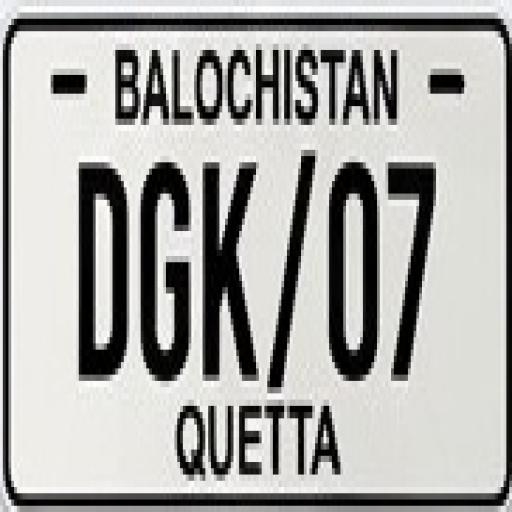0: (325, 158, 379, 398)
7: (386, 162, 440, 398)
D: (70, 146, 132, 418)
G: (136, 169, 192, 395)
K: (195, 151, 261, 389)
